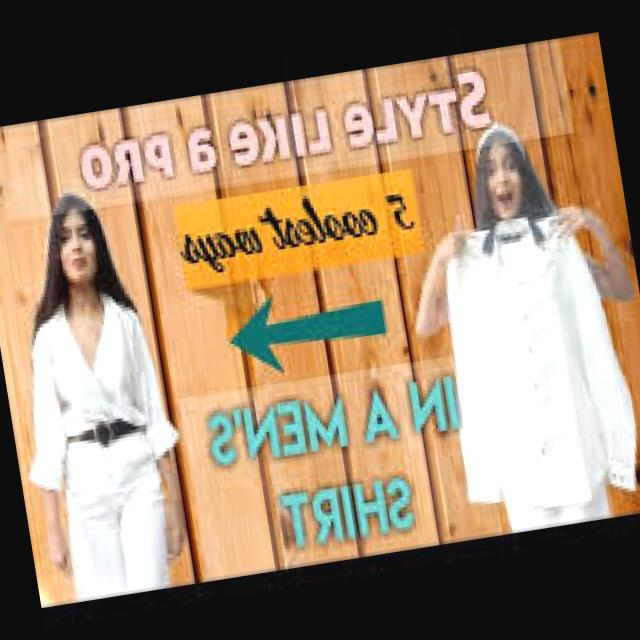face: (485, 142, 523, 221), (59, 209, 96, 286)
lower-wear: (64, 433, 168, 598), (504, 483, 611, 533)
top-wear: (446, 217, 636, 509), (29, 294, 179, 491)
